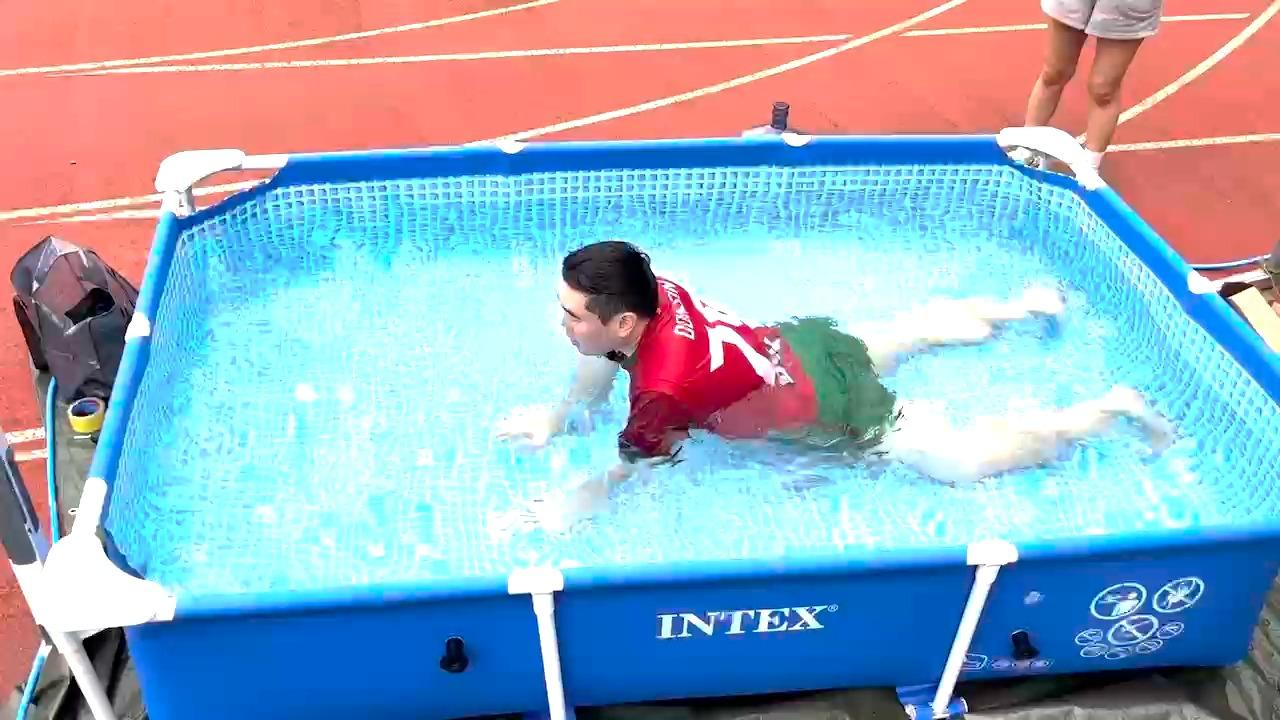Drowning: (469, 219, 1174, 542)
